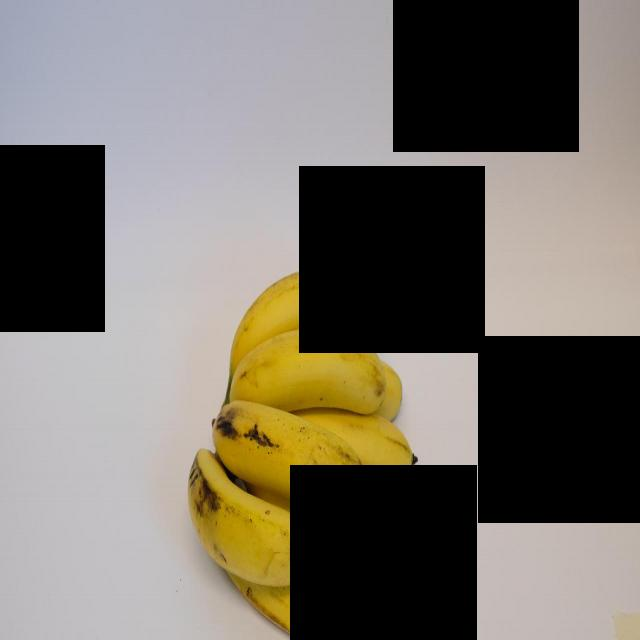banana: (177, 433, 313, 598), (216, 382, 364, 516), (226, 264, 382, 362), (228, 326, 388, 416), (295, 393, 420, 487)
